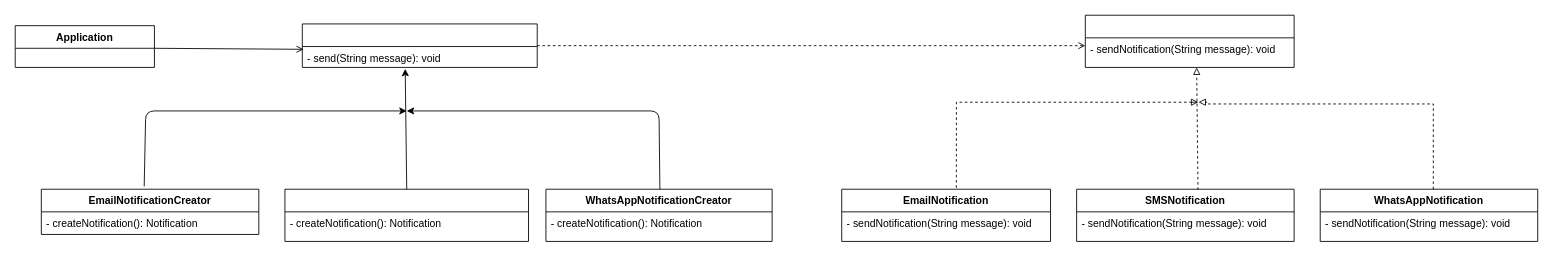
Some shapes in this 1553 by 259 pixel diagram are drawn without their labels. Each missing label, with the box of its shape:
<<abstract class>> NotificationCreatorFactory: (301, 23, 537, 67)
<<interface>> Notification: (1084, 14, 1294, 67)
SMSNotificationCreator: (284, 188, 529, 241)
